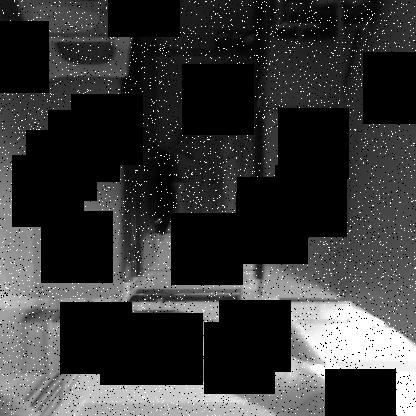Porte: (122, 1, 264, 285)
